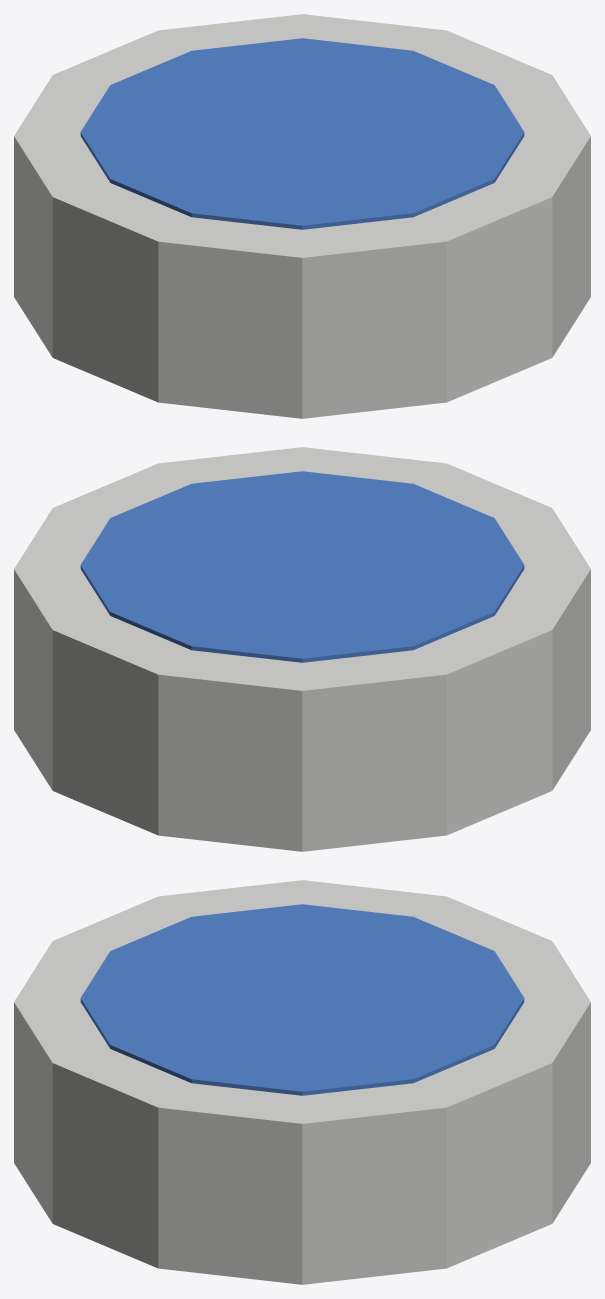
File: sm_product_plate_stack.glb
3 renders of one model, top to bottom at view 1: azimuth 30°, elevation 25°; view 2: azimuth 150°, elevation 25°; view 3: azimuth 270°, elevation 25°, orthographic.
Parts seen in each view (by area): view 1: plate_stack_0, plate_stack_1; view 2: plate_stack_0, plate_stack_1; view 3: plate_stack_0, plate_stack_1.
Part boxes in pixels (x1,y1,x2,y2): plate_stack_0: (14, 14, 590, 418); plate_stack_1: (80, 38, 524, 229); plate_stack_0: (14, 447, 590, 851); plate_stack_1: (80, 471, 524, 662); plate_stack_0: (14, 880, 590, 1284); plate_stack_1: (80, 904, 524, 1095).
Size of what is drawn, in the model's own units: 0.26 by 0.082 by 0.26.
